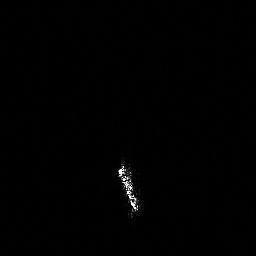ship: (112, 163, 145, 218)
